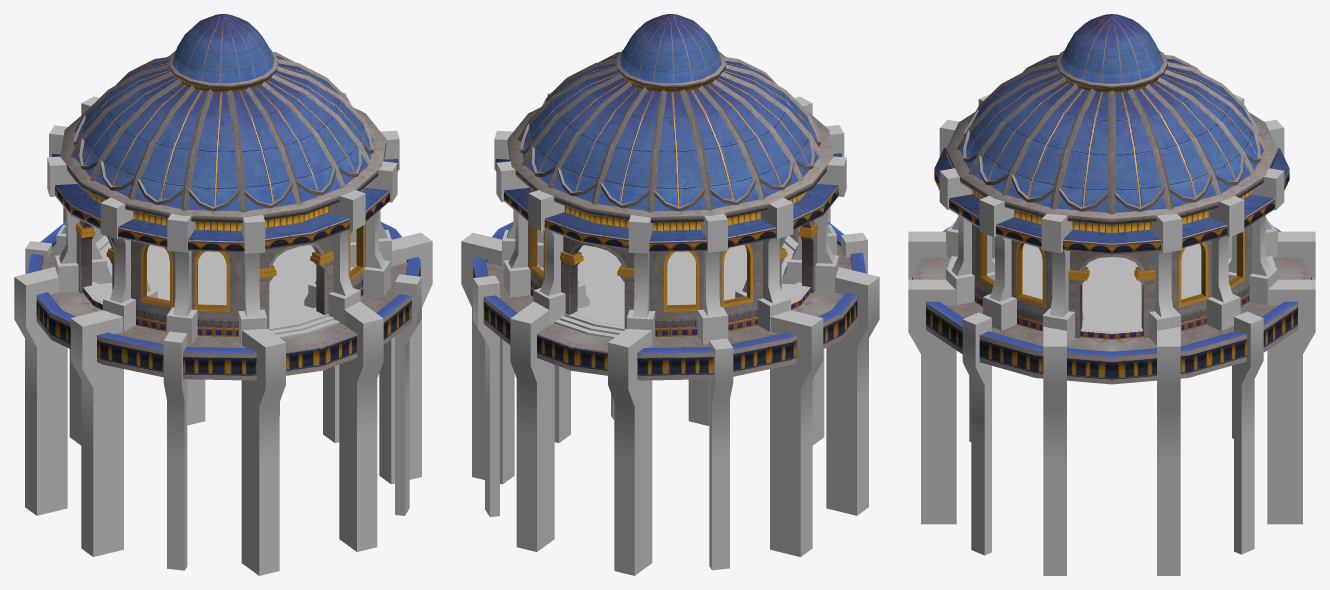
Rendered from NewBattle03_all01.FBX.
3 renders of one model, left to right at view 1: azimuth 30°, elevation 25°; view 2: azimuth 150°, elevation 25°; view 3: azimuth 270°, elevation 25°, orthographic.
Parts seen in each view (by area): view 1: NewBattle03_wall01_01, NewBattle03_ground01_03, NewBattle03_wall01_02, NewBattle03_ground01_02, NewBattle03_ground01_01, NewBattle03_wall01_03, NewBattle03_IntWall01_02, NewBattle03_IntWall01_01; view 2: NewBattle03_wall01_01, NewBattle03_ground01_03, NewBattle03_wall01_02, NewBattle03_ground01_02, NewBattle03_ground01_01, NewBattle03_wall01_03, NewBattle03_IntWall01_02, NewBattle03_IntWall01_01; view 3: NewBattle03_wall01_01, NewBattle03_ground01_03, NewBattle03_wall01_02, NewBattle03_ground01_02, NewBattle03_ground01_01, NewBattle03_IntWall01_02, NewBattle03_wall01_03, NewBattle03_IntWall01_01.
Part boxes in pixels (x1,y1,x2,y2): NewBattle03_wall01_01: [52, 14, 398, 336]; NewBattle03_ground01_03: [14, 206, 432, 575]; NewBattle03_wall01_02: [47, 92, 399, 345]; NewBattle03_ground01_02: [27, 221, 420, 380]; NewBattle03_ground01_01: [85, 235, 356, 338]; NewBattle03_wall01_03: [75, 221, 333, 328]; NewBattle03_IntWall01_02: [141, 225, 364, 311]; NewBattle03_IntWall01_01: [83, 226, 356, 308]; NewBattle03_wall01_01: [495, 14, 841, 336]; NewBattle03_ground01_03: [461, 206, 879, 575]; NewBattle03_wall01_02: [494, 92, 846, 345]; NewBattle03_ground01_02: [473, 221, 866, 380]; NewBattle03_ground01_01: [537, 235, 808, 338]; NewBattle03_wall01_03: [560, 221, 818, 328]; NewBattle03_IntWall01_02: [529, 225, 752, 311]; NewBattle03_IntWall01_01: [537, 226, 810, 308]; NewBattle03_wall01_01: [934, 14, 1289, 339]; NewBattle03_ground01_03: [908, 231, 1315, 575]; NewBattle03_wall01_02: [939, 94, 1284, 345]; NewBattle03_ground01_02: [912, 227, 1311, 384]; NewBattle03_ground01_01: [945, 243, 1278, 332]; NewBattle03_IntWall01_02: [979, 231, 1244, 307]; NewBattle03_wall01_03: [1068, 254, 1155, 338]; NewBattle03_IntWall01_01: [987, 234, 1236, 333].
Size of the model in its own units: 27.65 by 36.05 by 27.65.
